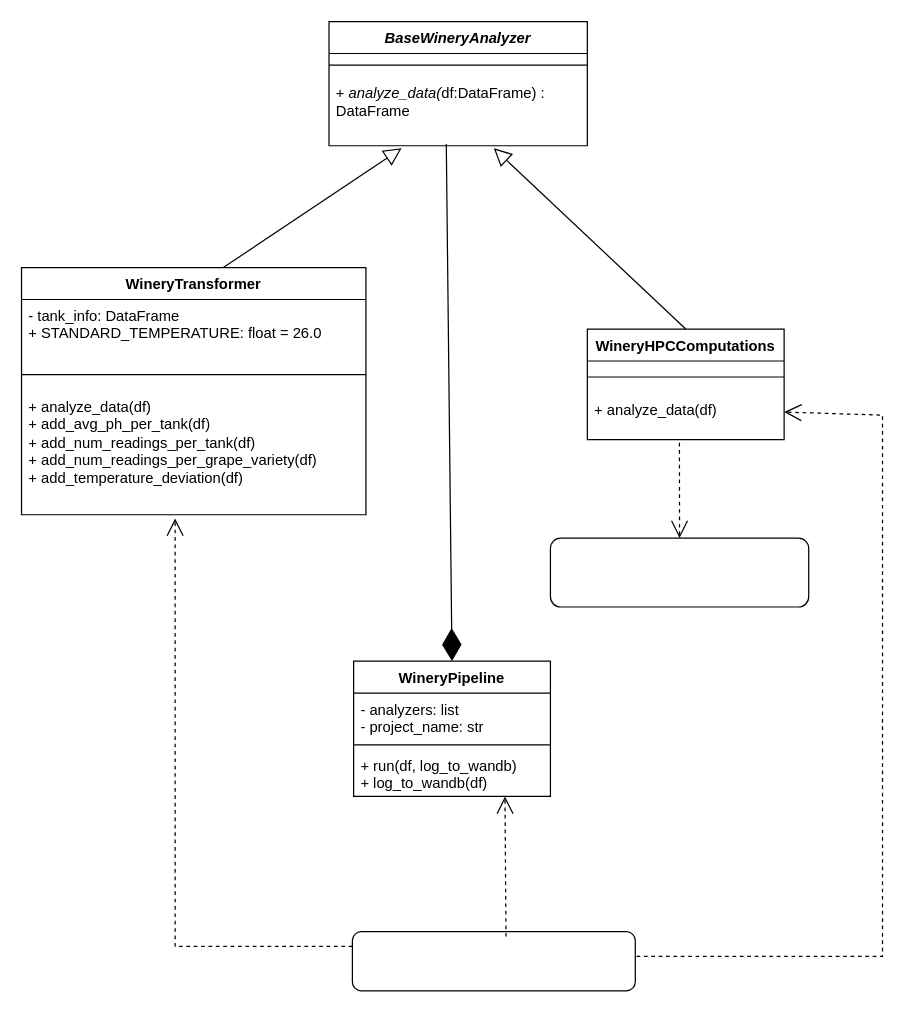
The diagram is 921 pixels wide and 1012 high, and some of its shapes have lost their labels. Here are the shapes that lost their labels. From the top down, the centre of each, then its label:
pixel 679 572: pairwise_stress_function(pH, temp, quantity): float
pixel 493 960: run_full_pipeline(input_csv, tank_info_csv, output_csv, project_name)
